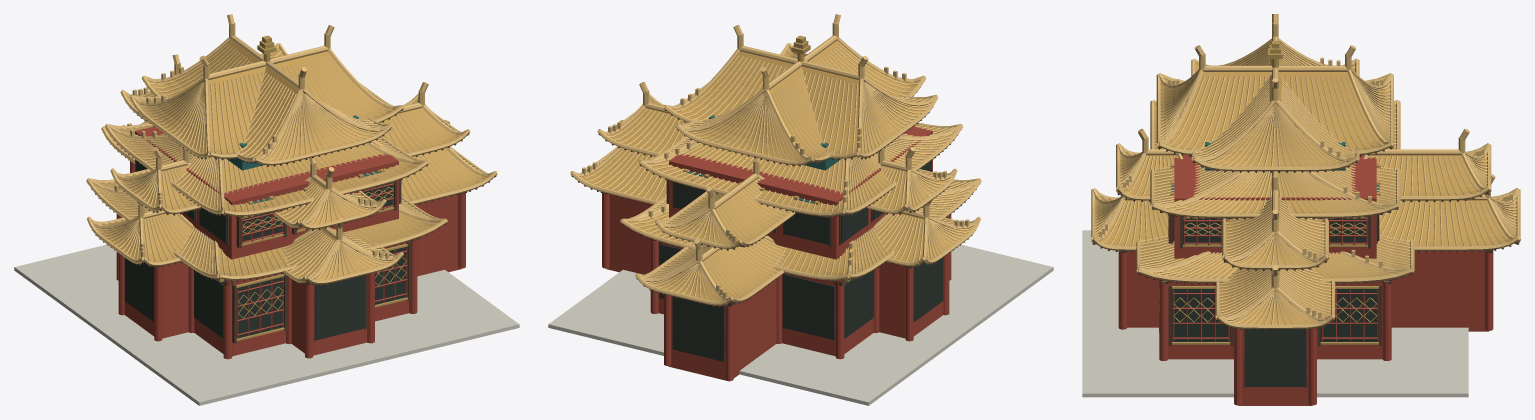
File: corner-tower.glb
The picture shows the model from 3 angles, left to right: view 1: azimuth 30°, elevation 25°; view 2: azimuth 150°, elevation 25°; view 3: azimuth 270°, elevation 25°; orthographic projection. The views are drawn at different scales.
Parts seen in each view (by area): view 1: GEO-corner-ridge, GEO-corner-tile, GEO-corner-stone, GEO-corner-red, GEO-corner-dark, GEO-corner-wood, GEO-corner-gold; view 2: GEO-corner-ridge, GEO-corner-tile, GEO-corner-red, GEO-corner-stone, GEO-corner-dark, GEO-corner-wood, GEO-corner-gold; view 3: GEO-corner-ridge, GEO-corner-tile, GEO-corner-red, GEO-corner-stone, GEO-corner-dark, GEO-corner-gold, GEO-corner-wood.
Part boxes in pixels (x1,y1,x2,y2): GEO-corner-ridge: (86,14,497,284); GEO-corner-tile: (94,40,487,279); GEO-corner-stone: (14,244,519,405); GEO-corner-red: (116,126,465,359); GEO-corner-dark: (124,161,406,340); GEO-corner-wood: (87,81,496,343); GEO-corner-gold: (217,35,408,341); GEO-corner-ridge: (570,14,981,305); GEO-corner-tile: (580,40,973,301); GEO-corner-red: (602,126,951,381); GEO-corner-stone: (548,244,1053,405); GEO-corner-dark: (659,161,943,361); GEO-corner-wood: (571,81,980,363); GEO-corner-gold: (683,35,850,281); GEO-corner-ridge: (1091,14,1520,328); GEO-corner-tile: (1095,42,1516,324); GEO-corner-red: (1118,154,1493,405); GEO-corner-stone: (1082,230,1468,397); GEO-corner-dark: (1172,214,1379,386); GEO-corner-gold: (1159,41,1390,344); GEO-corner-wood: (1092,146,1519,388).
Size of the model in its own units: 17.14 by 11.79 by 17.14.
